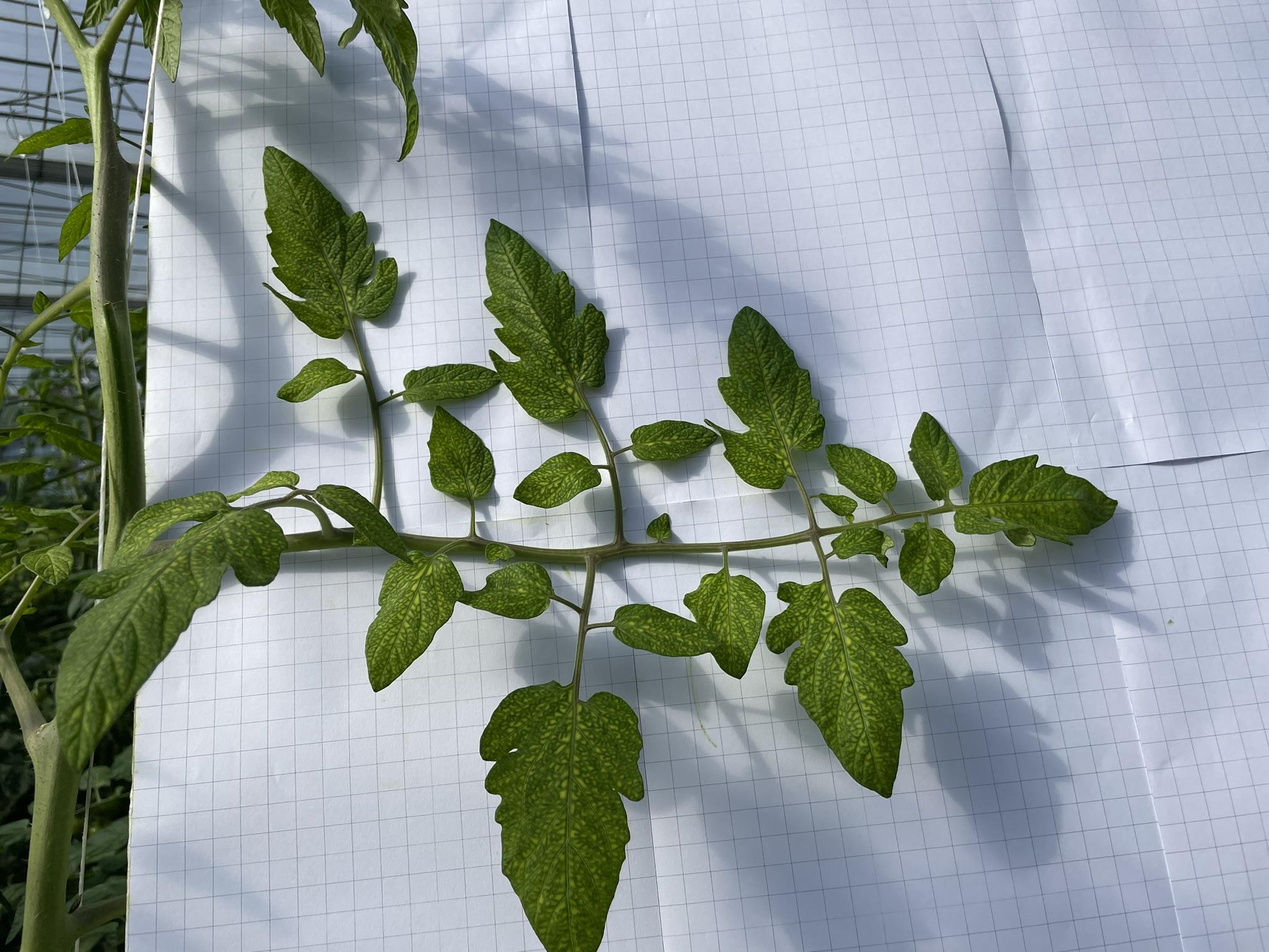Iron Deficiency: (54, 490, 291, 773), (478, 680, 649, 952), (763, 576, 917, 801), (260, 142, 401, 340), (481, 212, 611, 424), (704, 302, 825, 492), (951, 451, 1122, 549), (365, 545, 465, 693), (683, 570, 768, 682), (312, 480, 417, 567), (426, 403, 496, 500), (610, 602, 725, 660), (457, 560, 556, 622), (512, 450, 603, 510), (908, 410, 964, 503), (826, 441, 900, 504), (898, 522, 958, 597), (629, 417, 720, 464), (402, 361, 501, 404), (276, 355, 357, 404), (831, 524, 894, 570), (225, 466, 303, 502), (18, 541, 76, 587)
